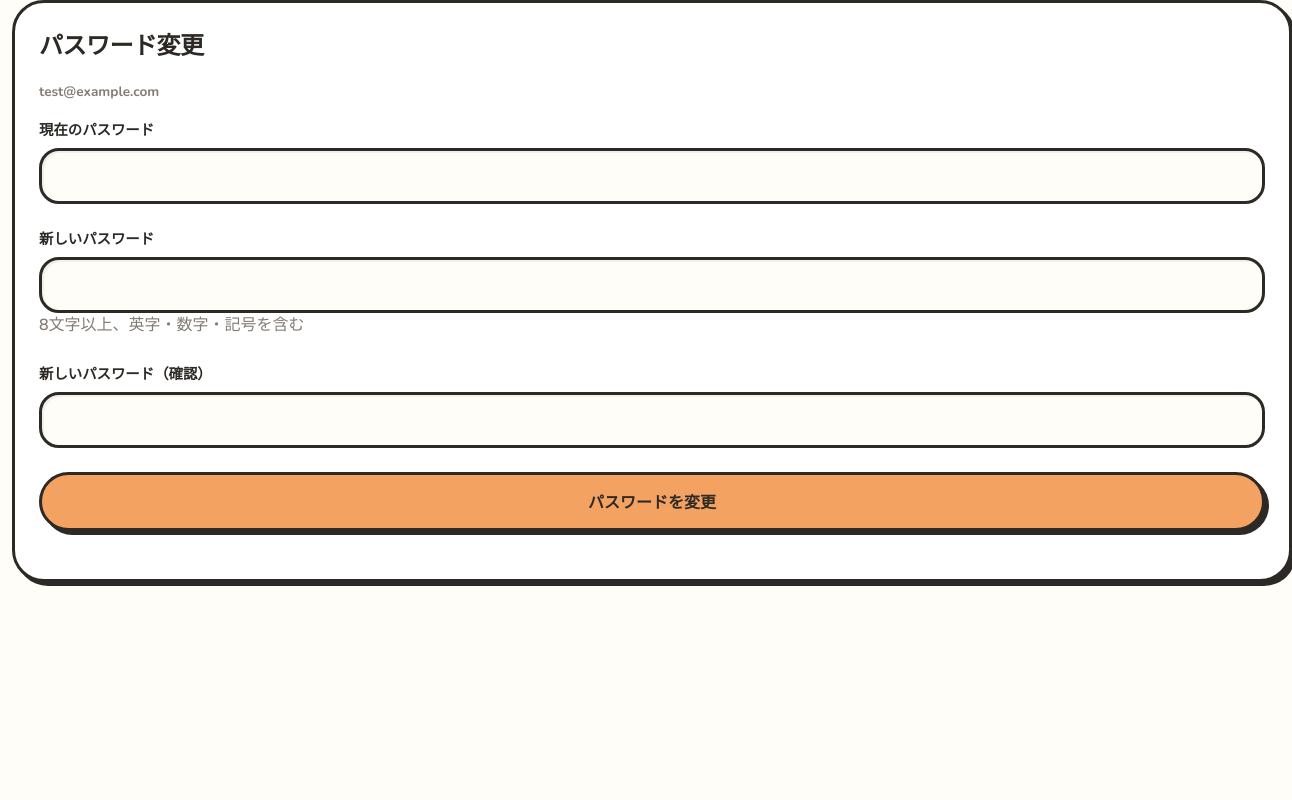
Test case: ChangePasswordPage › API連携 › 変更成功時にトースト通知が表示される
This screenshot has width=1292, height=800.
Type "OldPass1!" into the password field labelled "現在のパスワード" at coordinates (652, 176), box x1=39 y1=148 x2=1265 y2=204
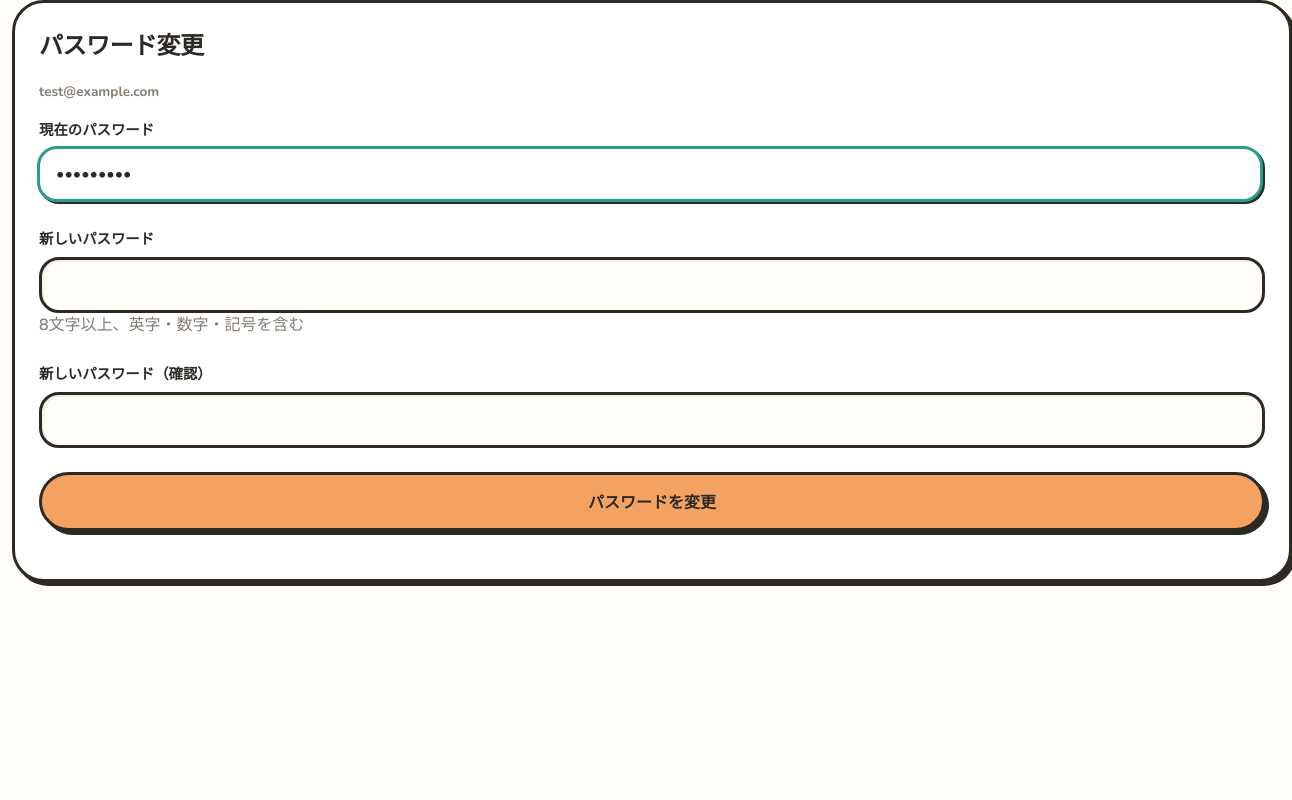
Type "NewPass1!" into the password field labelled "新しいパスワード" at coordinates (652, 285), box x1=39 y1=257 x2=1265 y2=313
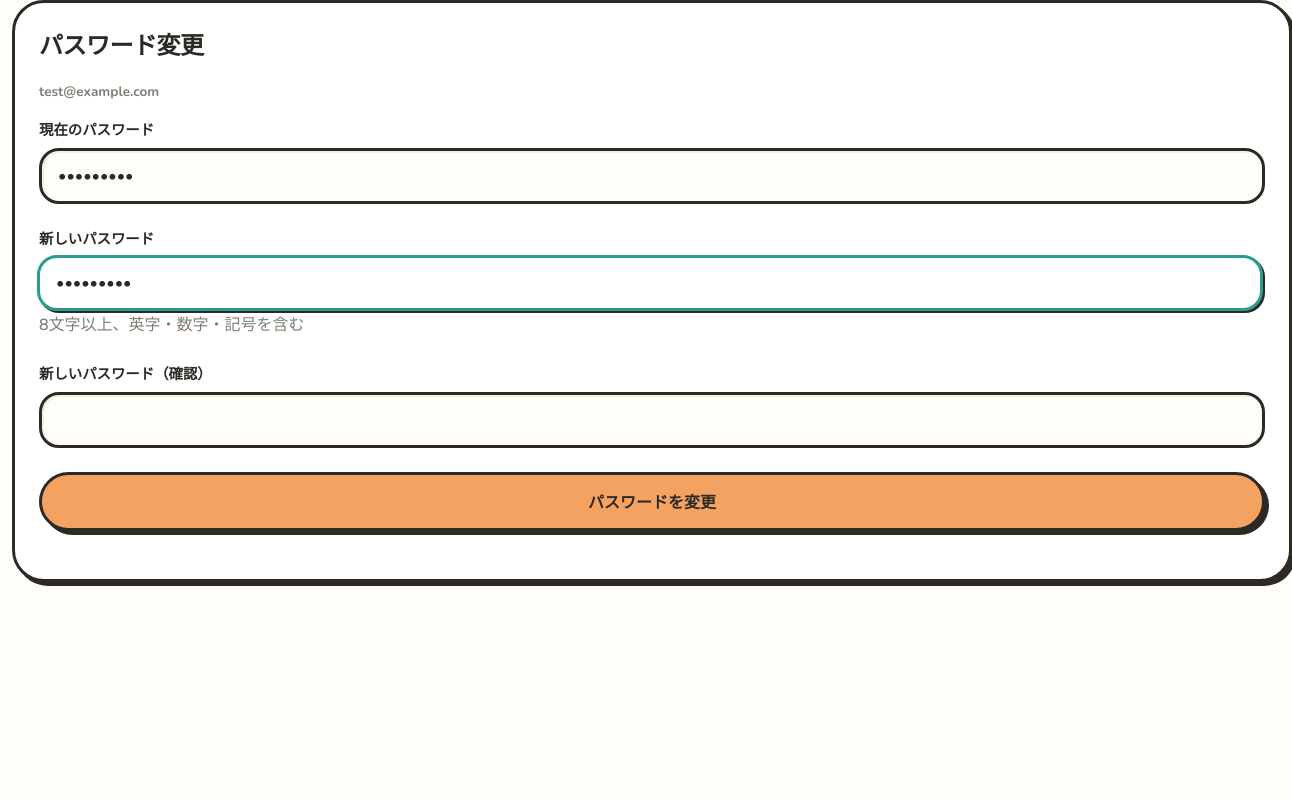
Type "NewPass1!" into the password field labelled "新しいパスワード（確認）" at coordinates (652, 420), box x1=39 y1=392 x2=1265 y2=448
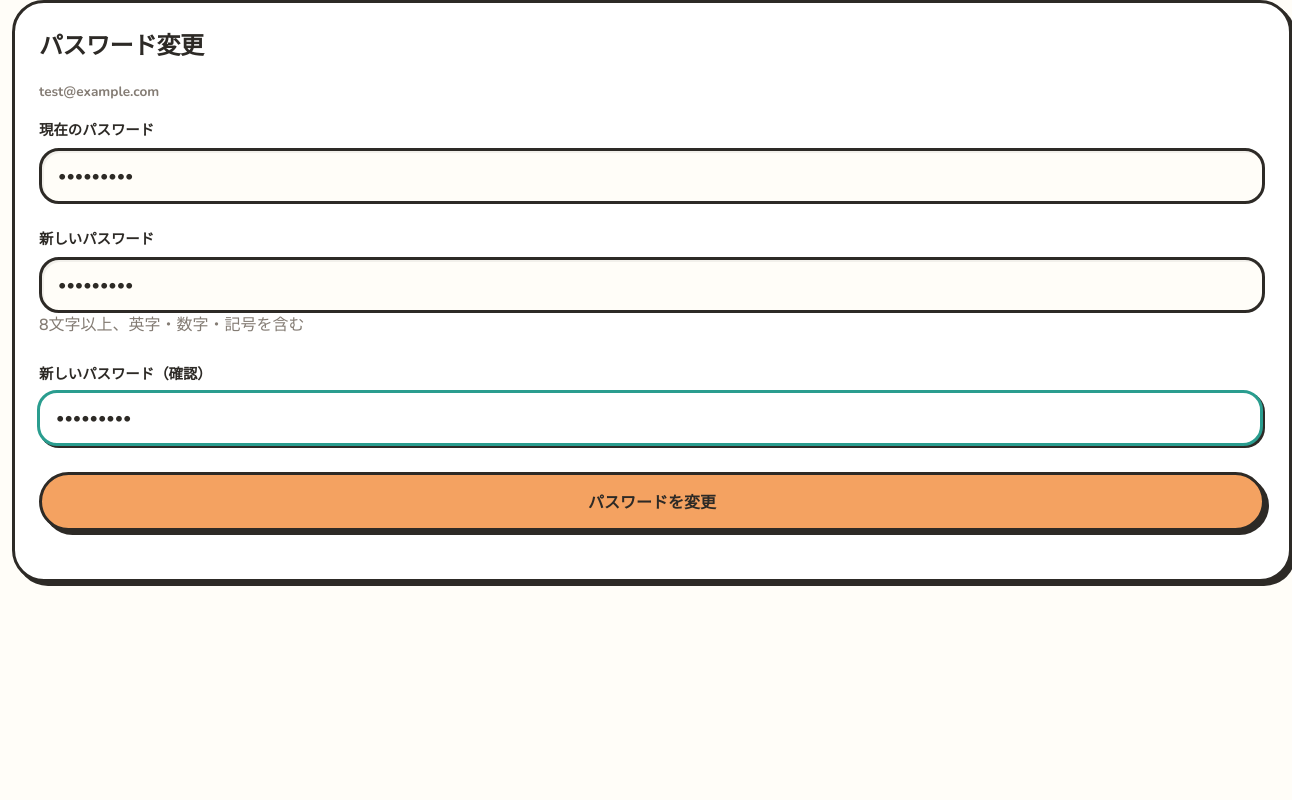
Click the button "パスワードを変更" at coordinates (652, 501), box x1=39 y1=472 x2=1265 y2=531
(page scrolled)
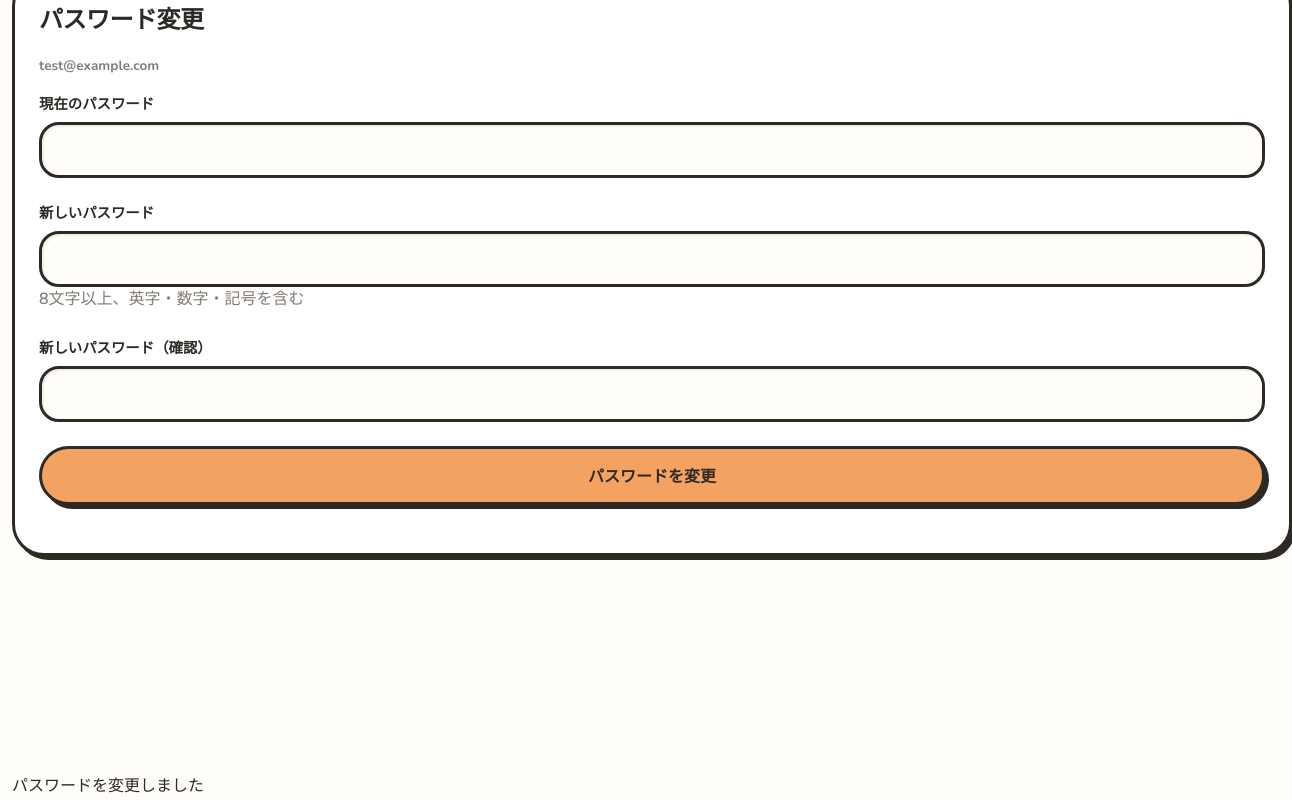
Check: the text "パスワードを変更しました" is shown, box x1=12 y1=775 x2=204 y2=797
